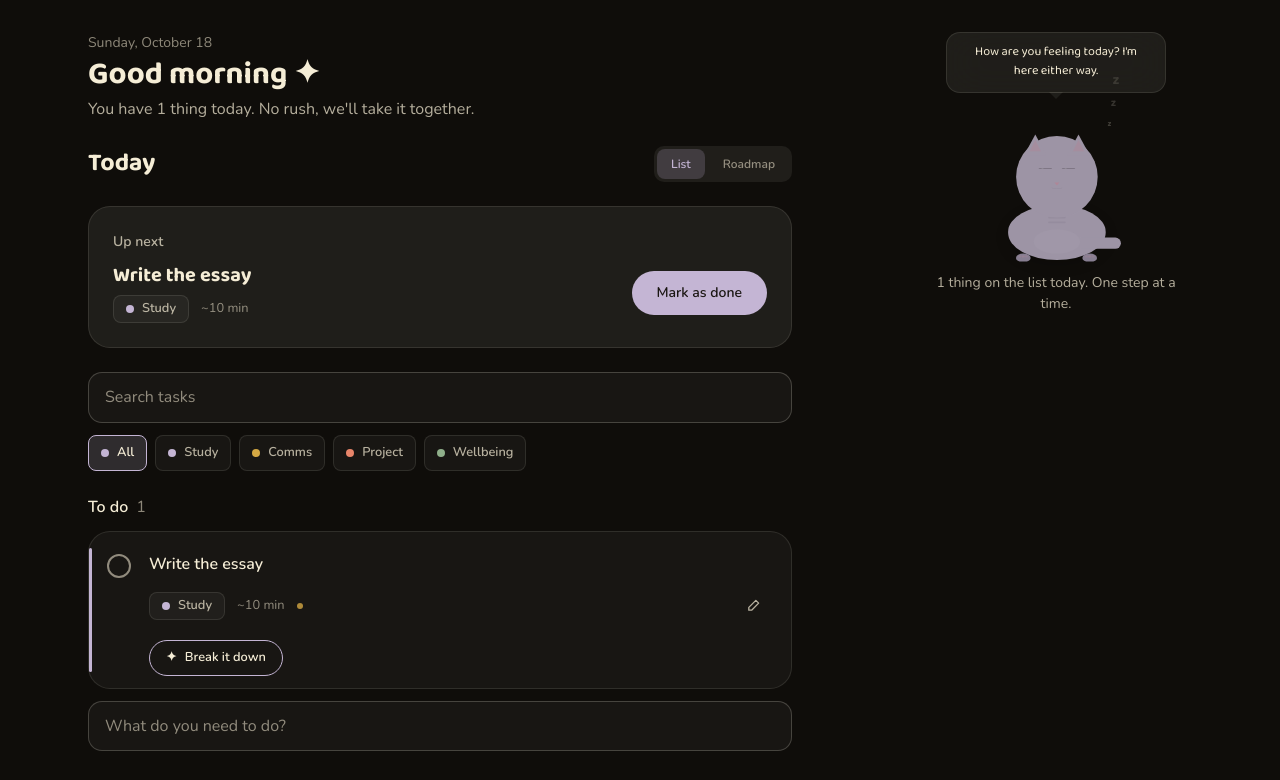
Test case: axe: interactive states › a breakdown with its undo toast
Click the button named "Break down \"Write the essay\" into steps": (216, 658) [149,640,283,676]
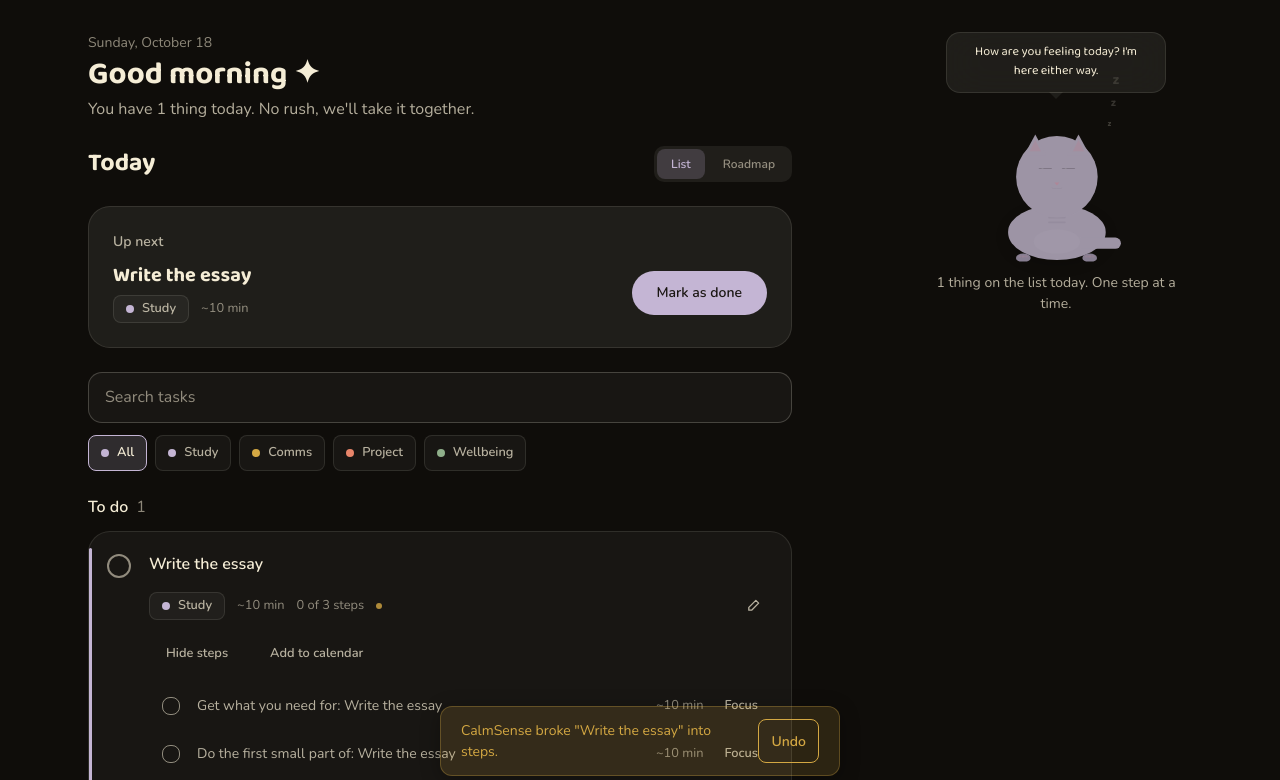
Expected: the button "Undo" is shown, [758,719,819,763]
